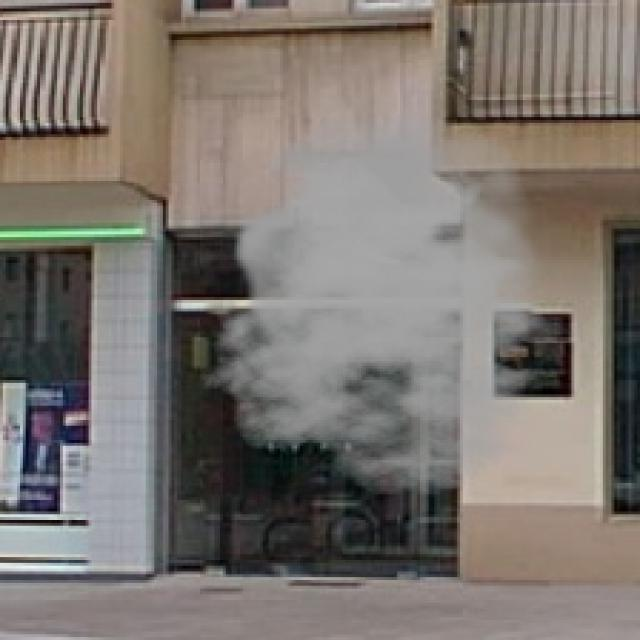smoke: (200, 112, 589, 497)
